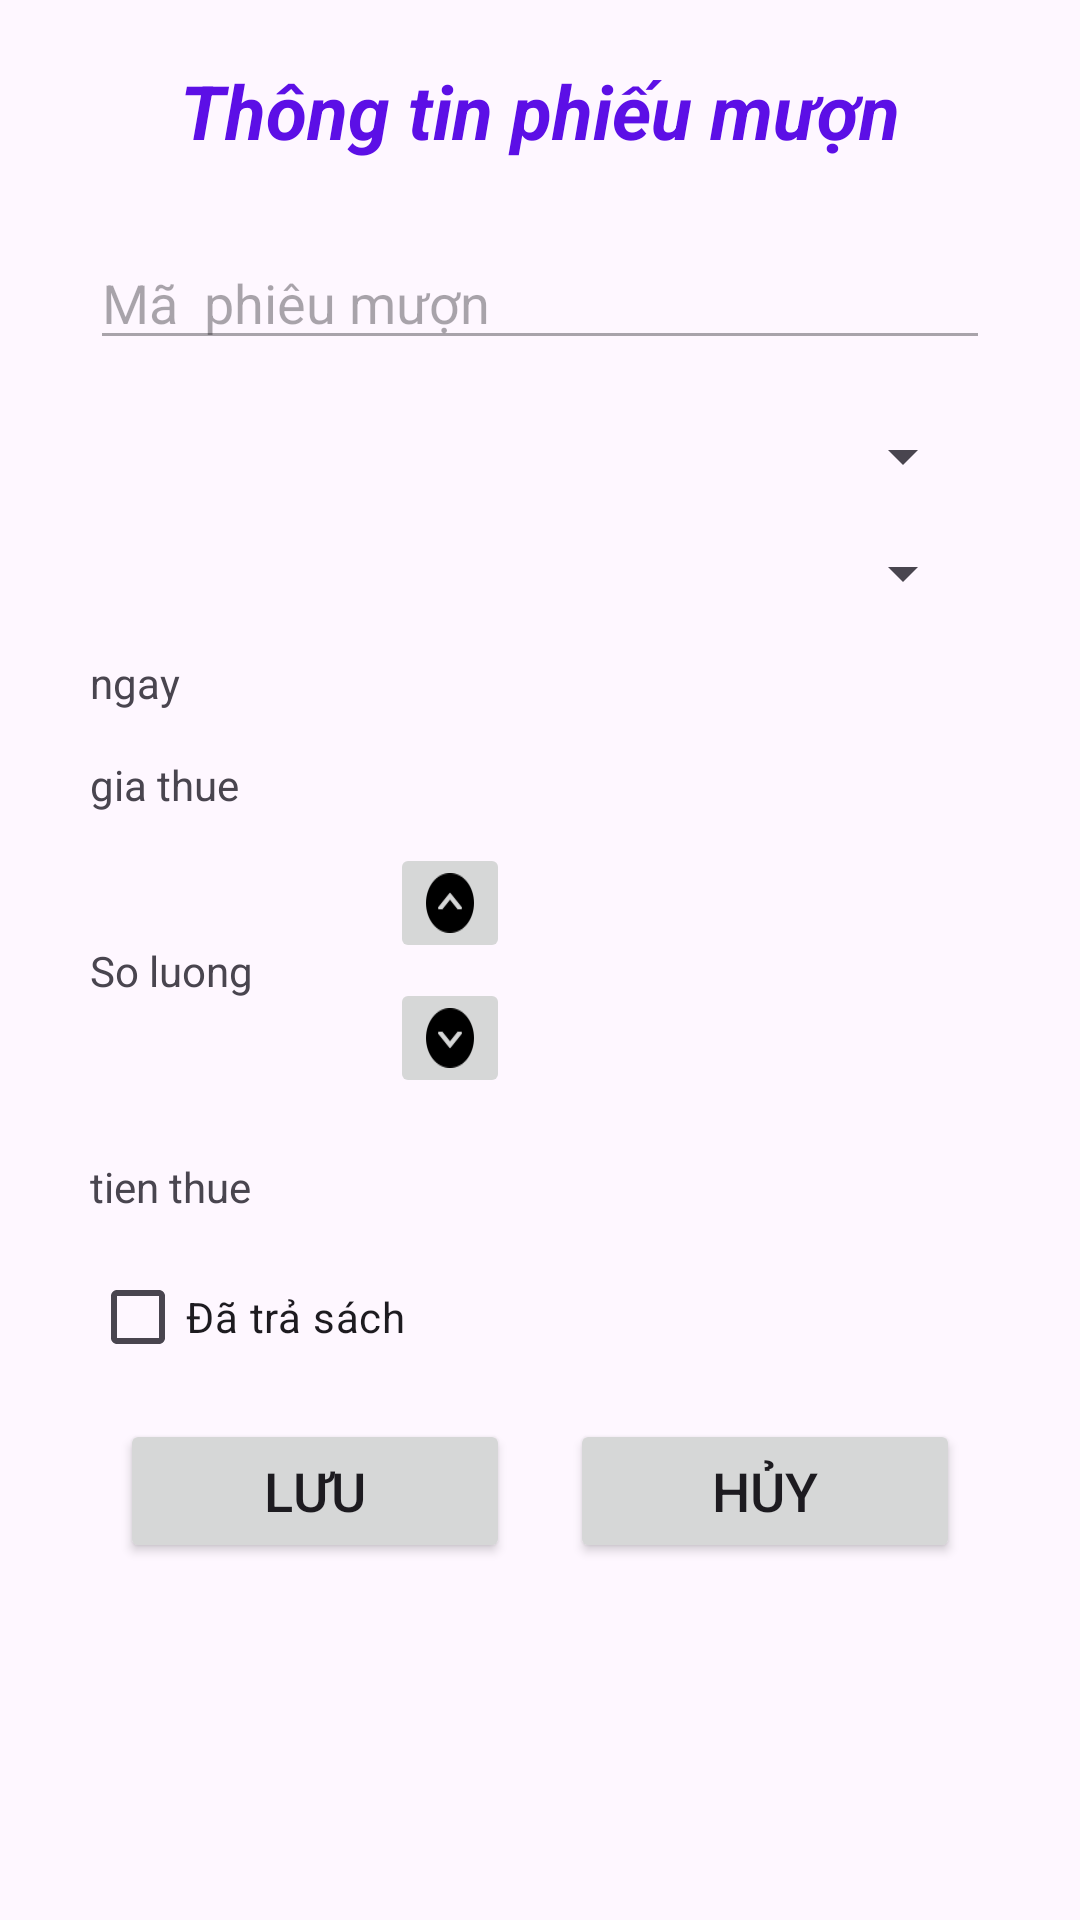

Icon click points for this 1080px×1920px phone screenshot, format [x,y]:
down: [450,1038]
